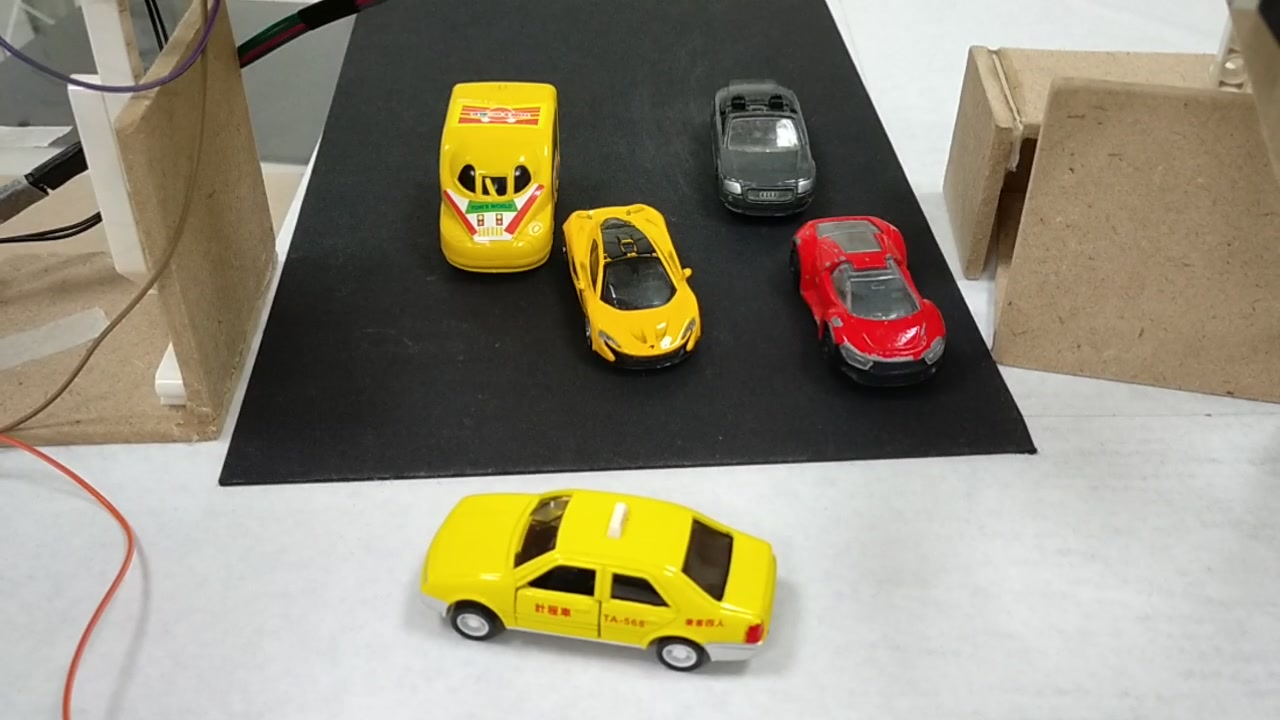car: (417, 494, 780, 675), (790, 222, 947, 387), (562, 205, 702, 375), (709, 80, 815, 216)
